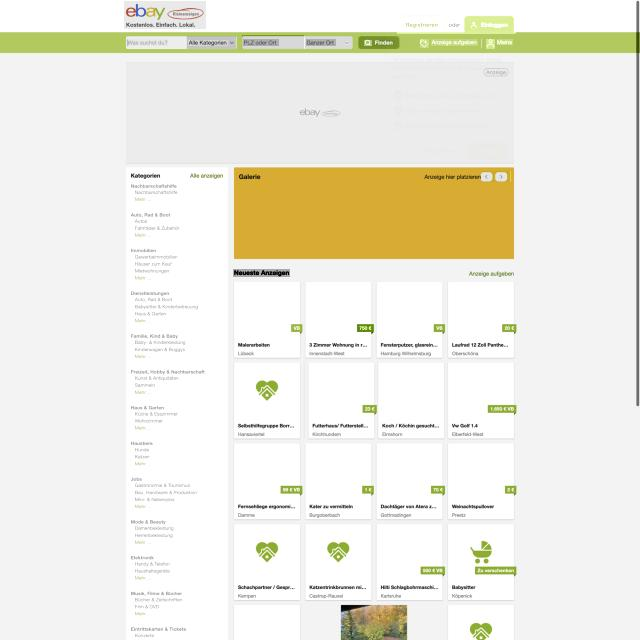CheckedTextView: (126, 36, 236, 48), (242, 35, 304, 49), (126, 36, 187, 49), (358, 36, 400, 49)
ImageView: (126, 62, 514, 164)
RadioButton: (357, 324, 374, 334), (290, 323, 304, 335)
alert: (187, 36, 236, 49), (305, 36, 353, 49)
bag: (0, 0, 636, 53)
breadcrumbs: (233, 269, 290, 277)
carousel: (486, 39, 495, 49), (420, 39, 429, 48), (364, 40, 372, 46), (345, 41, 349, 45), (230, 41, 234, 44)
data feed: (431, 39, 478, 46), (188, 40, 228, 46), (306, 39, 336, 46), (374, 40, 394, 46), (497, 39, 513, 45)
date picker: (124, 1, 206, 29)
decoration: (130, 180, 226, 640), (482, 171, 512, 182)
footer: (127, 39, 168, 46), (243, 39, 279, 46)
icon: (397, 16, 516, 34)
